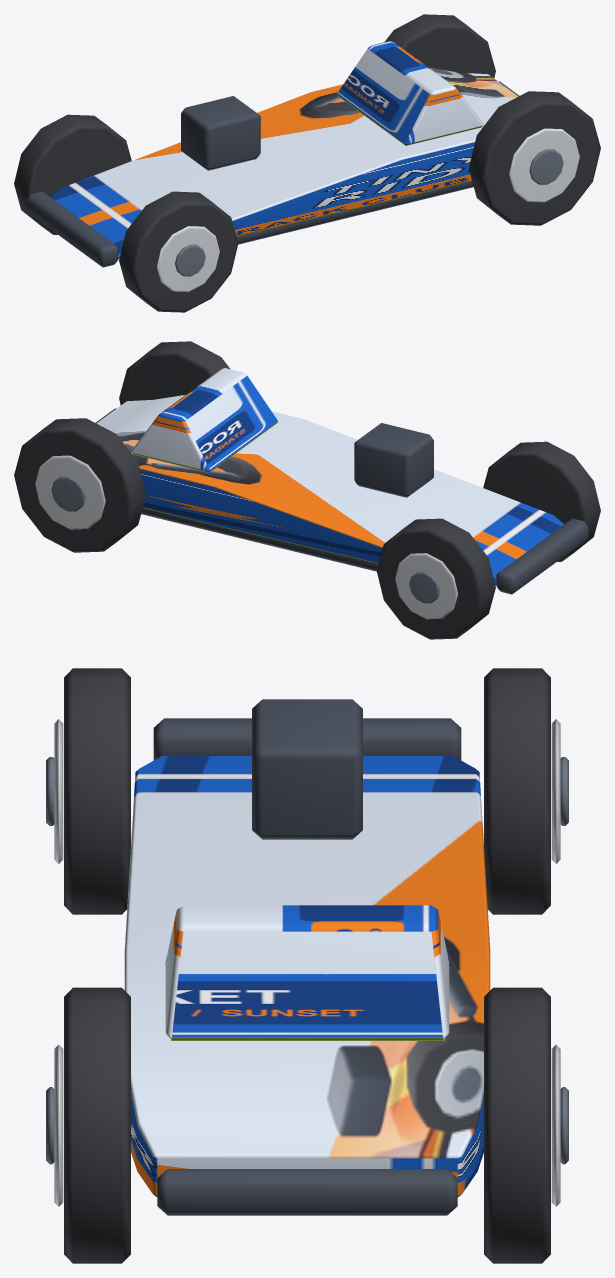
The picture shows the model from 3 angles, top to bottom: view 1: azimuth 30°, elevation 25°; view 2: azimuth 150°, elevation 25°; view 3: azimuth 270°, elevation 25°; orthographic projection. The views are drawn at different scales.
Visible parts, largest first — view 1: TC-04_connected_shell, Tire.002, TC-04_cabin, Tire, Tire.001, engine scoop, Tire.003, Rim.002, front bumper, Rim, underbody, Hub.002 (+1 smaller); view 2: TC-04_connected_shell, Tire.003, TC-04_cabin, Tire.001, Tire, engine scoop, Tire.002, Rim.003, front bumper, Rim.001, underbody, Hub.003 (+1 smaller); view 3: TC-04_connected_shell, TC-04_cabin, Tire.002, Tire.003, Tire, Tire.001, engine scoop, rear bumper, front bumper, Rim.002, Rim.003, Rim (+1 smaller).
Boxes of the visible parts, x1=… form: TC-04_connected_shell: x1=51, y1=68, x2=518, y2=258; Tire.002: x1=468, y1=91, x2=600, y2=225; TC-04_cabin: x1=337, y1=41, x2=483, y2=145; Tire: x1=119, y1=191, x2=238, y2=312; Tire.001: x1=14, y1=114, x2=131, y2=234; engine scoop: x1=181, y1=96, x2=260, y2=170; Tire.003: x1=384, y1=14, x2=495, y2=78; Rim.002: x1=509, y1=128, x2=579, y2=202; front bumper: x1=26, y1=191, x2=118, y2=267; Rim: x1=157, y1=226, x2=219, y2=292; underbody: x1=236, y1=181, x2=473, y2=244; Hub.002: x1=529, y1=149, x2=563, y2=184; TC-04_connected_shell: x1=96, y1=395, x2=563, y2=585; Tire.003: x1=14, y1=418, x2=146, y2=552; TC-04_cabin: x1=131, y1=368, x2=277, y2=472; Tire.001: x1=376, y1=518, x2=495, y2=639; Tire: x1=483, y1=441, x2=600, y2=561; engine scoop: x1=354, y1=423, x2=433, y2=497; Tire.002: x1=119, y1=341, x2=230, y2=405; Rim.003: x1=35, y1=455, x2=105, y2=529; front bumper: x1=496, y1=518, x2=588, y2=594; Rim.001: x1=395, y1=553, x2=457, y2=619; underbody: x1=141, y1=508, x2=378, y2=571; Hub.003: x1=51, y1=476, x2=85, y2=511; TC-04_connected_shell: x1=124, y1=755, x2=490, y2=1197; TC-04_cabin: x1=165, y1=905, x2=449, y2=1040; Tire.002: x1=64, y1=987, x2=130, y2=1263; Tire.003: x1=484, y1=987, x2=550, y2=1263; Tire: x1=64, y1=668, x2=130, y2=914; Tire.001: x1=484, y1=668, x2=550, y2=914; engine scoop: x1=252, y1=699, x2=362, y2=839; rear bumper: x1=157, y1=1169, x2=457, y2=1215; front bumper: x1=153, y1=718, x2=461, y2=760; Rim.002: x1=54, y1=1044, x2=63, y2=1206; Rim.003: x1=551, y1=1044, x2=560, y2=1206; Rim: x1=54, y1=719, x2=63, y2=863.
Bounding box in the file's own units: 430 × 117 × 203.
